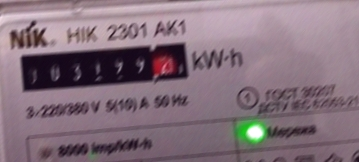0: (25, 64, 40, 86), (48, 61, 62, 82)
1: (92, 56, 104, 76)
3: (70, 62, 83, 82)
6: (160, 60, 172, 77)
9: (113, 55, 126, 76), (134, 54, 147, 74)
screen: (13, 31, 200, 106)
